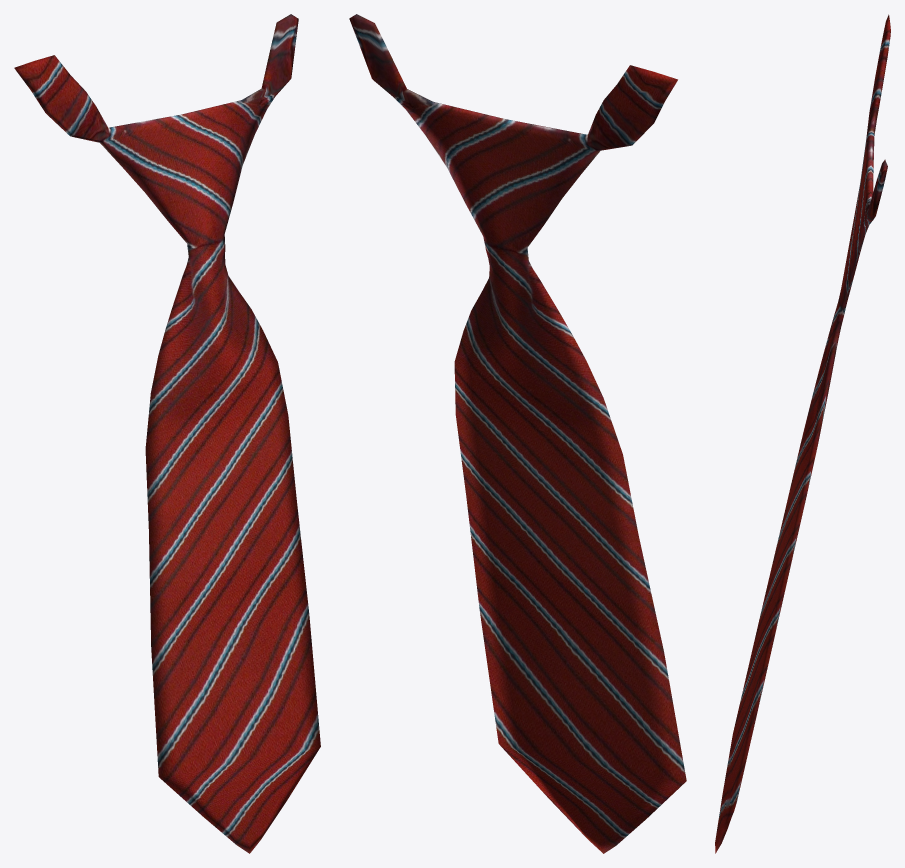
The model's file is stropdas.fbx.
The picture shows the model from 3 angles, left to right: view 1: azimuth 30°, elevation 25°; view 2: azimuth 150°, elevation 25°; view 3: azimuth 270°, elevation 25°; orthographic projection. The views are drawn at different scales.
Visible parts, largest first — view 1: pCube1; view 2: pCube1; view 3: pCube1.
Boxes of the visible parts, <box> form: pCube1: <box>14,14,320,853</box>; pCube1: <box>349,14,686,853</box>; pCube1: <box>715,14,890,853</box>.
Size of the model in its own units: 6.22 by 16.03 by 3.32.
